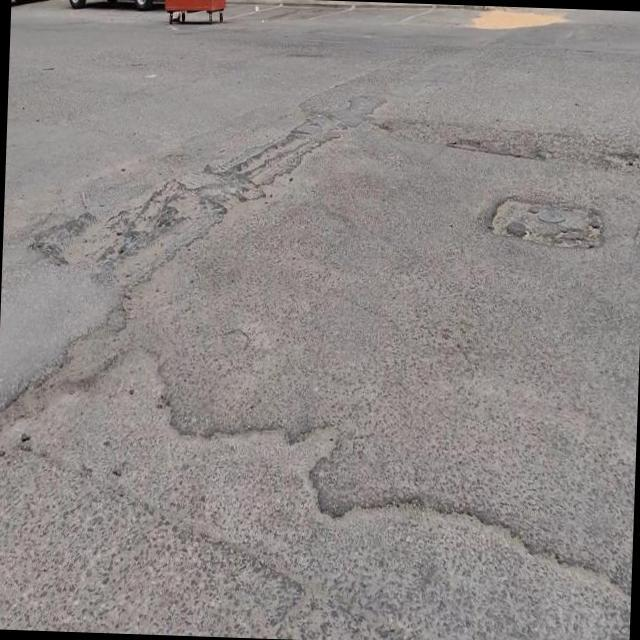Pothole: (487, 192, 601, 252)
